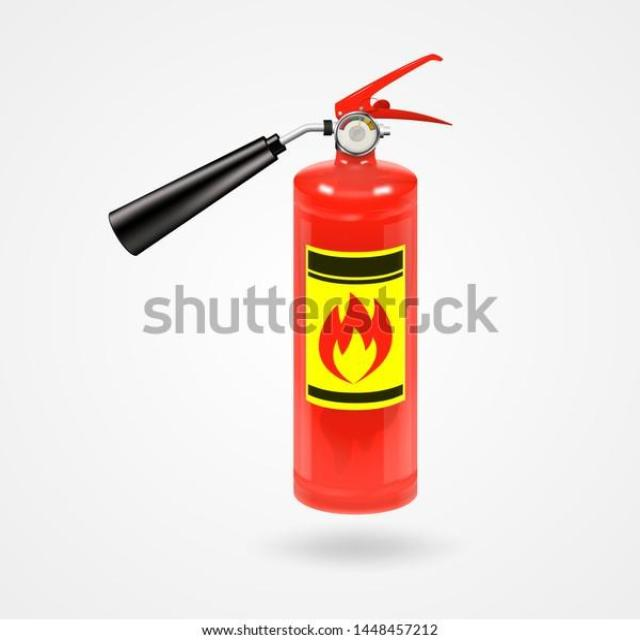fire_extinguisher: (100, 48, 456, 516)
